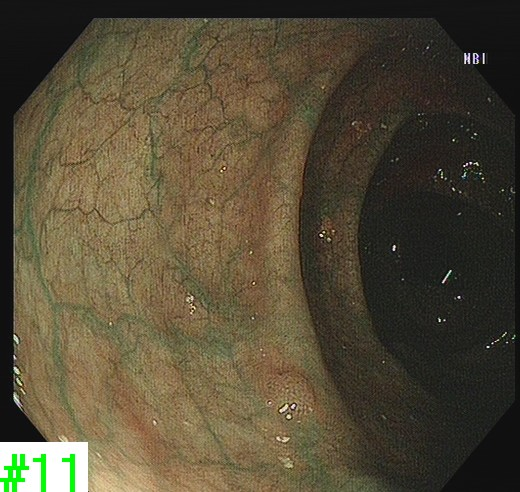adenoma: (271, 369, 317, 414)
